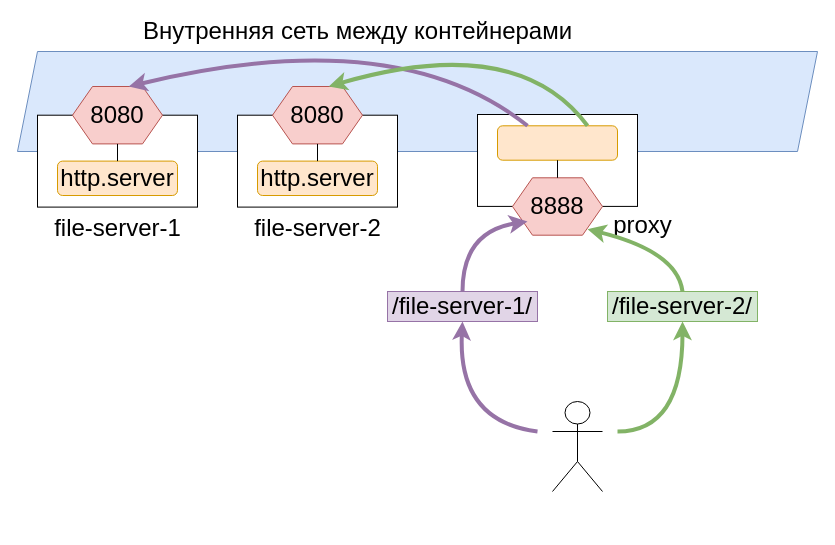
The diagram is 835 pixels wide and 545 high, and some of its shapes have lost their labels. Each missing label, with the centre of its shape:
"nginx" goes at pixel 557 142.
"Пользователь" goes at pixel 577 446.
